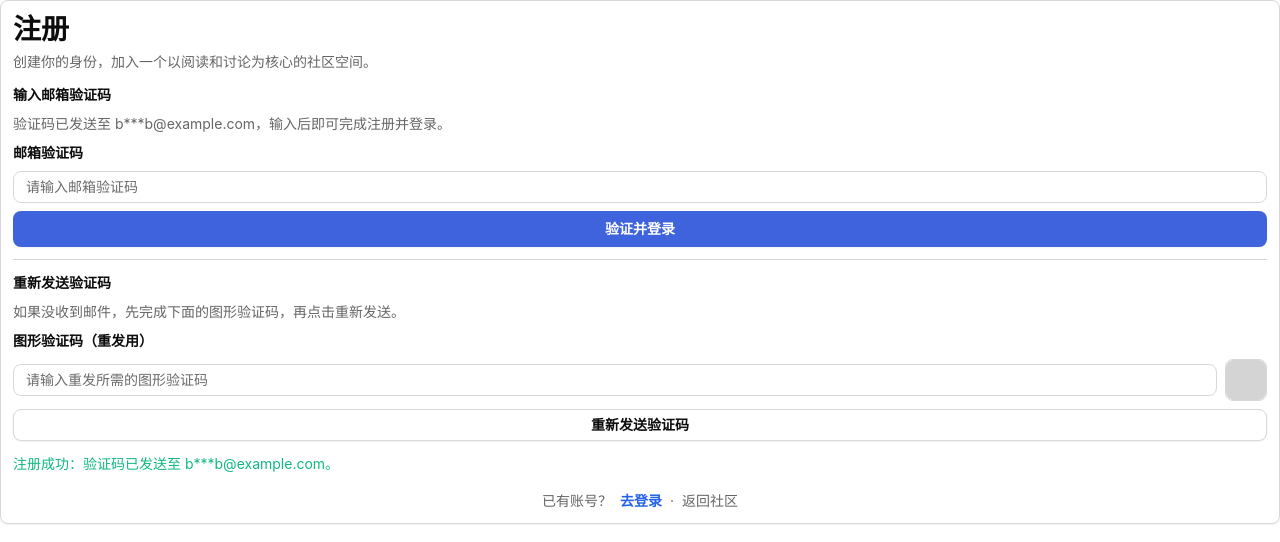
Test: RegisterView › re-enables the register button after the registration context is invalidated and the flow resets to the form step
Type "123456" into the field with placeholder "请输入邮箱验证码" at [640, 187], box [13,171,1267,203]
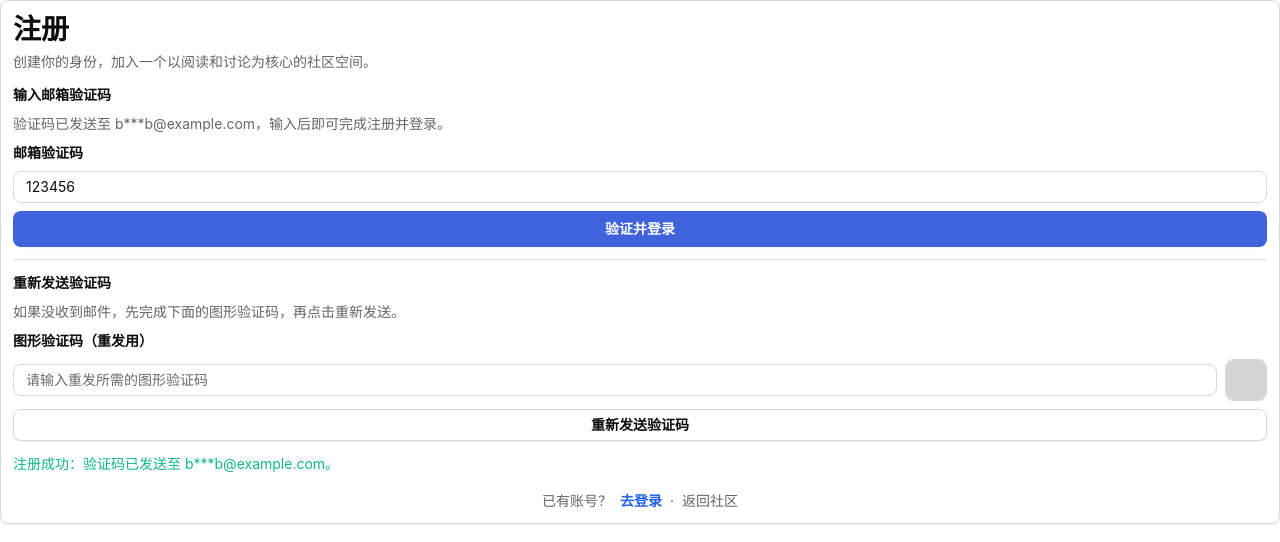
Click the button with class "auth-submit-btn" at [640, 229], box [13,211,1267,247]
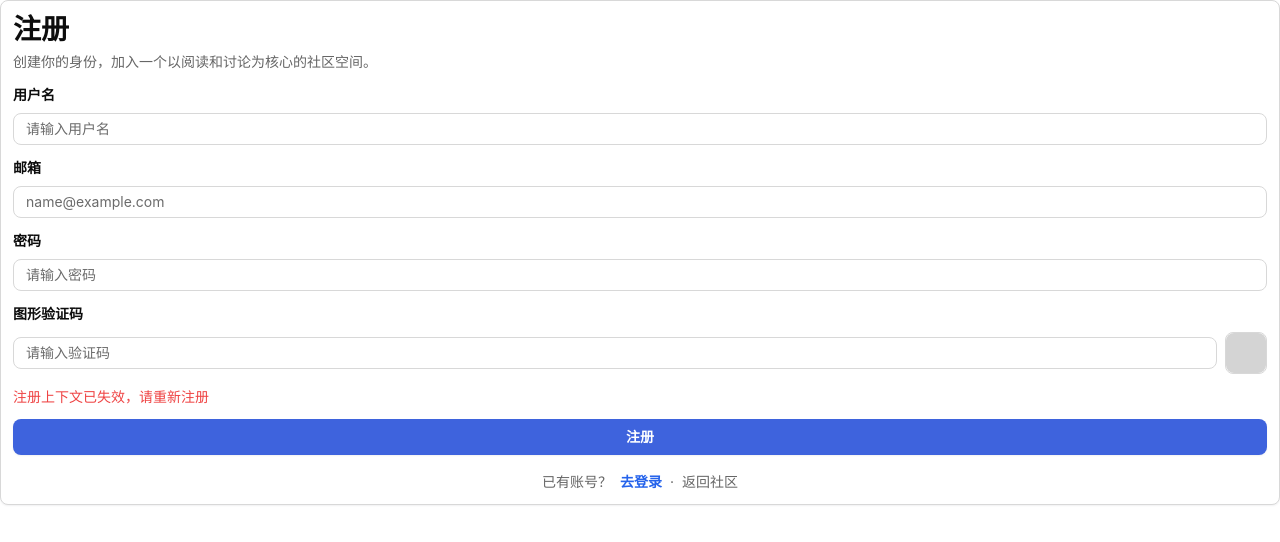
Check: the text "注册上下文已失效，请重新注册" is shown, box [13,388,209,405]
Check: the button with class "auth-submit-btn" is enabled, box [13,419,1267,455]
